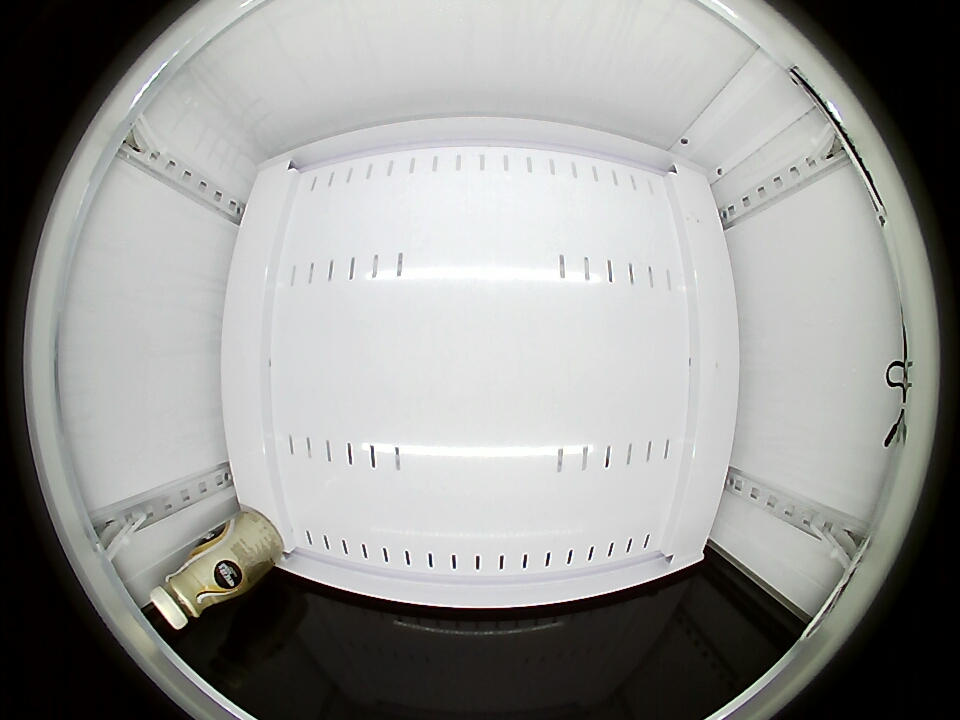kafei: (149, 547, 236, 630)
